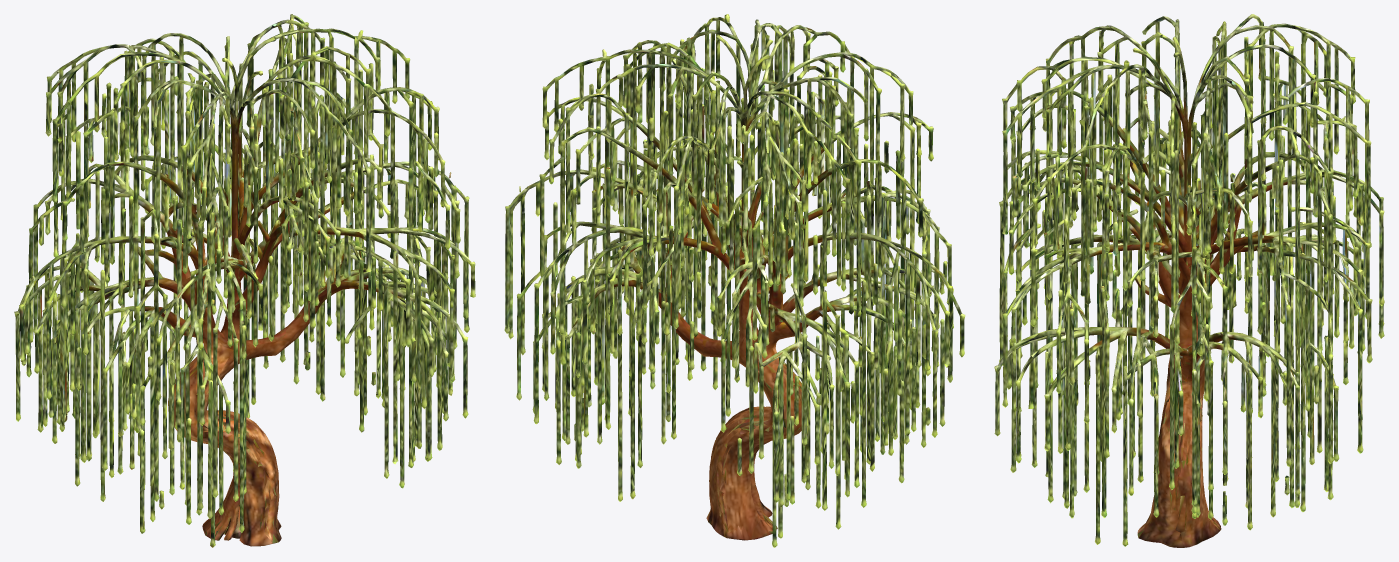
The model's file is t_willow.glb.
3 views of the same model, side by side, from view 1: azimuth 30°, elevation 25°; view 2: azimuth 150°, elevation 25°; view 3: azimuth 270°, elevation 25° (orthographic). The views are drawn at different scales.
Visible parts, largest first — view 1: t_willow; view 2: t_willow; view 3: t_willow.
Part boxes in pixels (left/top/right/bottom): t_willow: left=14, top=14, right=475, bottom=547; t_willow: left=504, top=14, right=965, bottom=547; t_willow: left=994, top=14, right=1384, bottom=547.
Size of the model in its own units: 8.68 by 9 by 6.47.
1 material, 1 textured.
